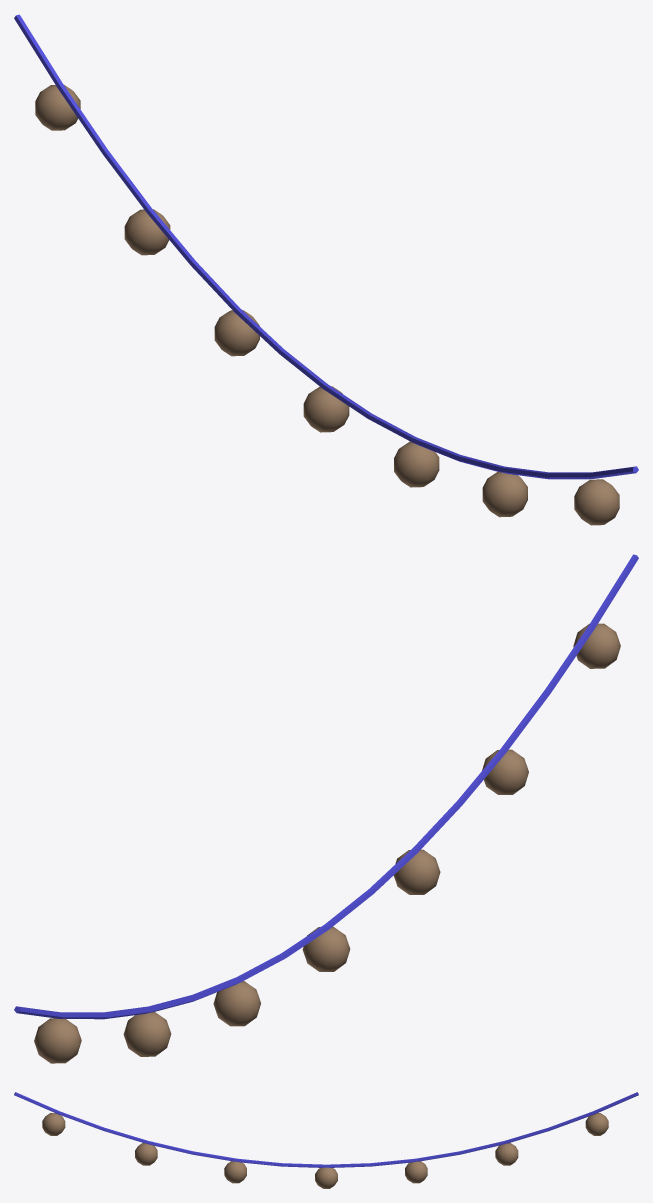
The model's file is SM_Lampions.fbx.
3 renders of one model, top to bottom at view 1: azimuth 30°, elevation 25°; view 2: azimuth 150°, elevation 25°; view 3: azimuth 270°, elevation 25°, orthographic. The views are drawn at different scales.
Visible parts, largest first — view 1: SM_Lampions; view 2: SM_Lampions; view 3: SM_Lampions.
Part boxes in pixels (left/top/right/bottom): SM_Lampions: left=14, top=14, right=638, bottom=525; SM_Lampions: left=14, top=554, right=638, bottom=1063; SM_Lampions: left=14, top=1092, right=638, bottom=1188.
Size of the model in its own units: 23.19 by 102 by 602.
